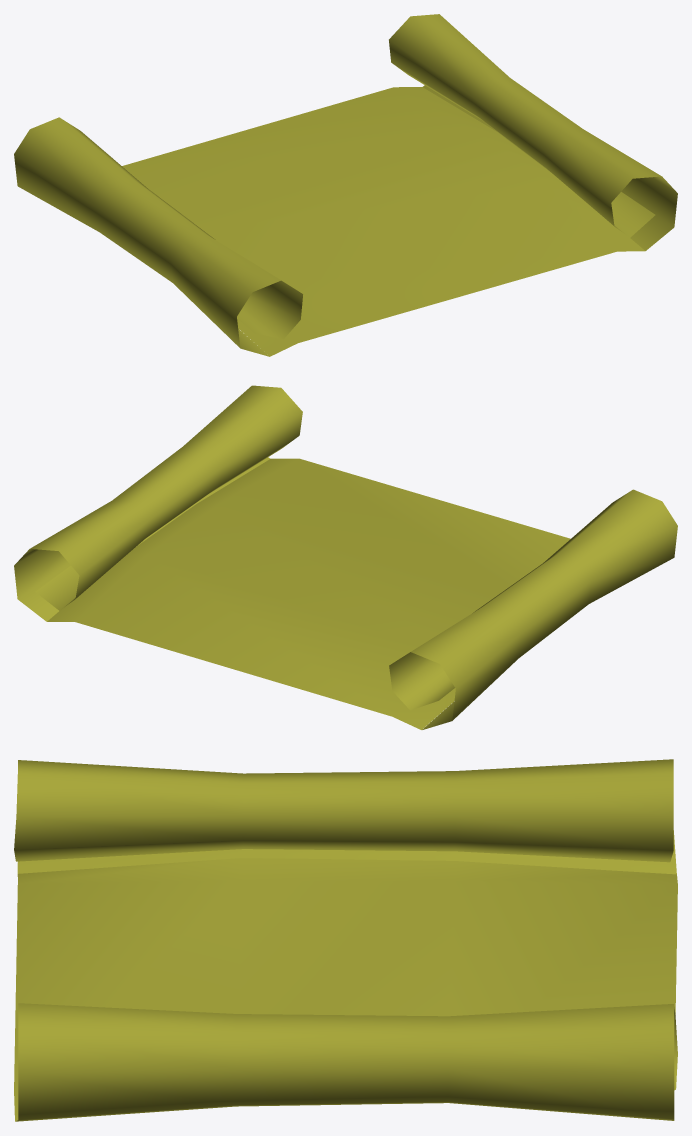
File: mw_scroll_02.FBX
3 renders of one model, top to bottom at view 1: azimuth 30°, elevation 25°; view 2: azimuth 150°, elevation 25°; view 3: azimuth 270°, elevation 25°, orthographic. The views are drawn at different scales.
Visible parts, largest first — view 1: mw_scroll_02; view 2: mw_scroll_02; view 3: mw_scroll_02.
Part boxes in pixels (left/top/right/bottom): mw_scroll_02: left=14, top=14, right=677, bottom=356; mw_scroll_02: left=14, top=385, right=677, bottom=729; mw_scroll_02: left=14, top=759, right=677, bottom=1121.
Bounding box in the file's own units: 43.94 × 8.58 × 38.78.
